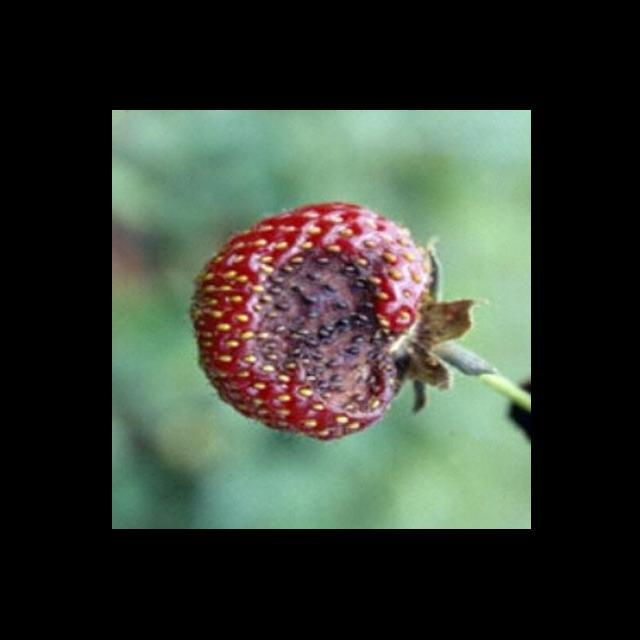Anthracnose Fruit Rot: (238, 221, 401, 429)
